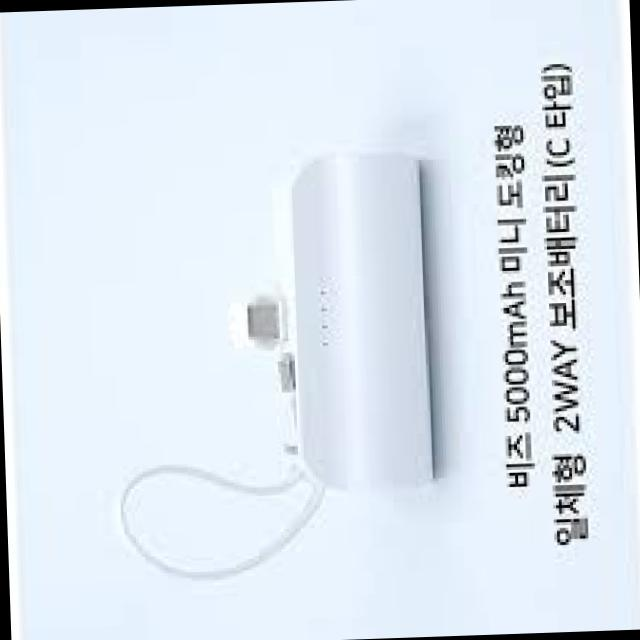portable-charger: (231, 143, 438, 500)
